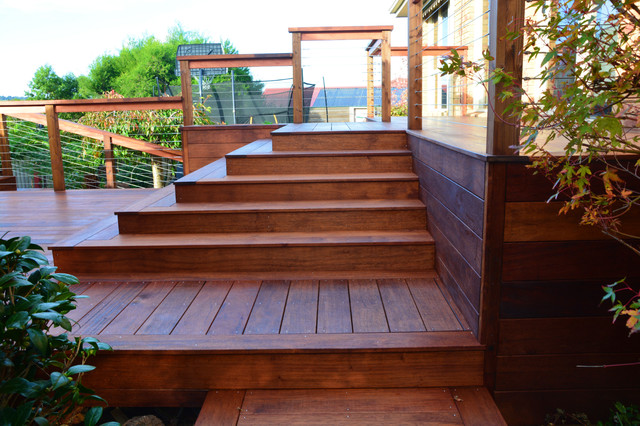upstairs: (231, 324, 467, 426)
